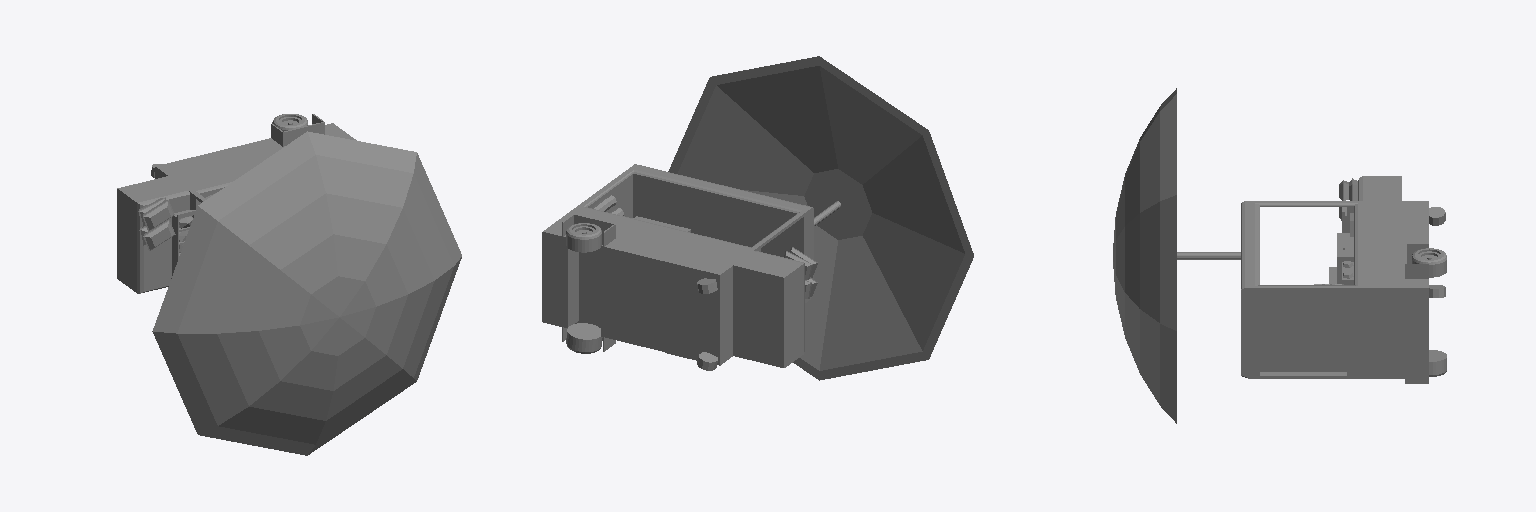
Rendered from puesto_tacos.obj.
3 renders of one model, left to right at view 1: azimuth 30°, elevation 25°; view 2: azimuth 150°, elevation 25°; view 3: azimuth 270°, elevation 25°, orthographic.
Parts seen in each view (by area): view 1: model_0; view 2: model_0, Object003; view 3: model_0, Object003.
Part boxes in pixels (left/top/right/bottom): model_0: left=117, top=114, right=461, bottom=455; model_0: left=542, top=56, right=973, bottom=380; Object003: left=634, top=165, right=810, bottom=211; model_0: left=1113, top=88, right=1446, bottom=423; Object003: left=1245, top=202, right=1258, bottom=286.
Bounding box in the file's own units: 3.84 × 3.84 × 3.6.